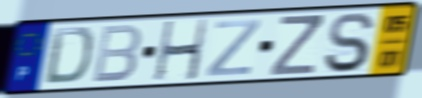B: (89, 23, 144, 85)
D: (42, 26, 96, 87)
H: (152, 17, 210, 84)
S: (321, 10, 377, 74)
Z: (203, 18, 264, 79), (268, 14, 325, 78)
